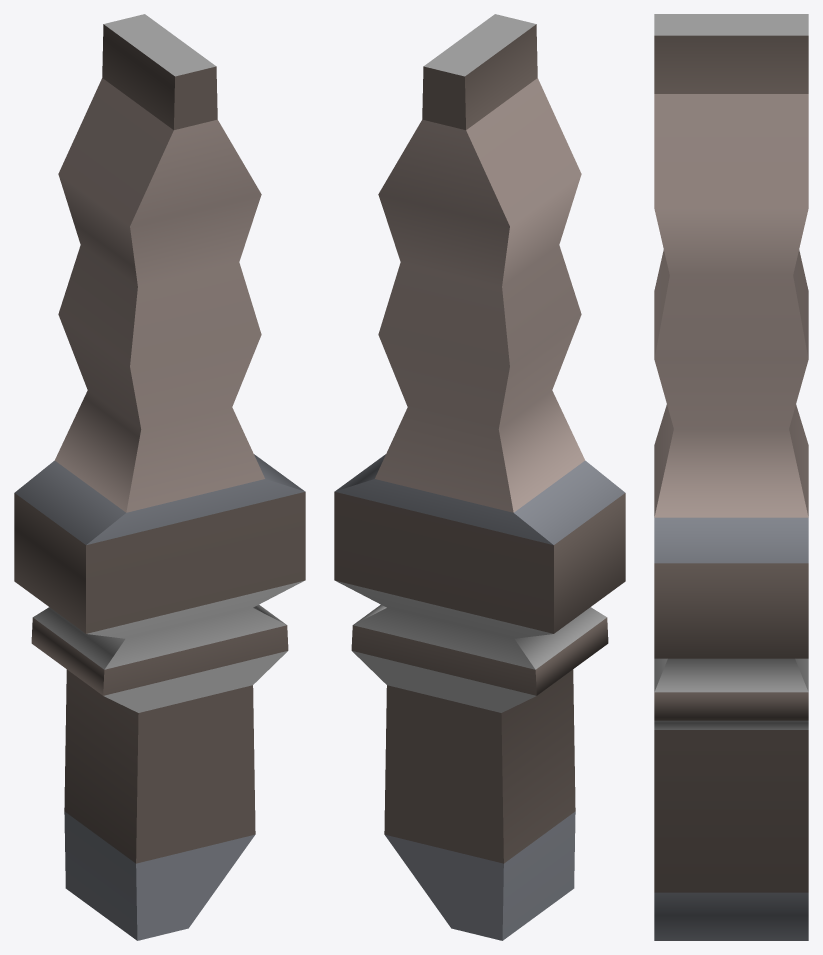
The model's file is EnginePart_02.fbx.
3 views of the same model, side by side, from view 1: azimuth 30°, elevation 25°; view 2: azimuth 150°, elevation 25°; view 3: azimuth 270°, elevation 25° (orthographic). The views are drawn at different scales.
Visible parts, largest first — view 1: EnginePart_02; view 2: EnginePart_02; view 3: EnginePart_02.
Boxes of the visible parts, <box> form: EnginePart_02: <box>14,14,305,940</box>; EnginePart_02: <box>334,14,625,940</box>; EnginePart_02: <box>654,14,808,940</box>.
Bounding box in the file's own units: 9.48 × 35.31 × 5.36.
